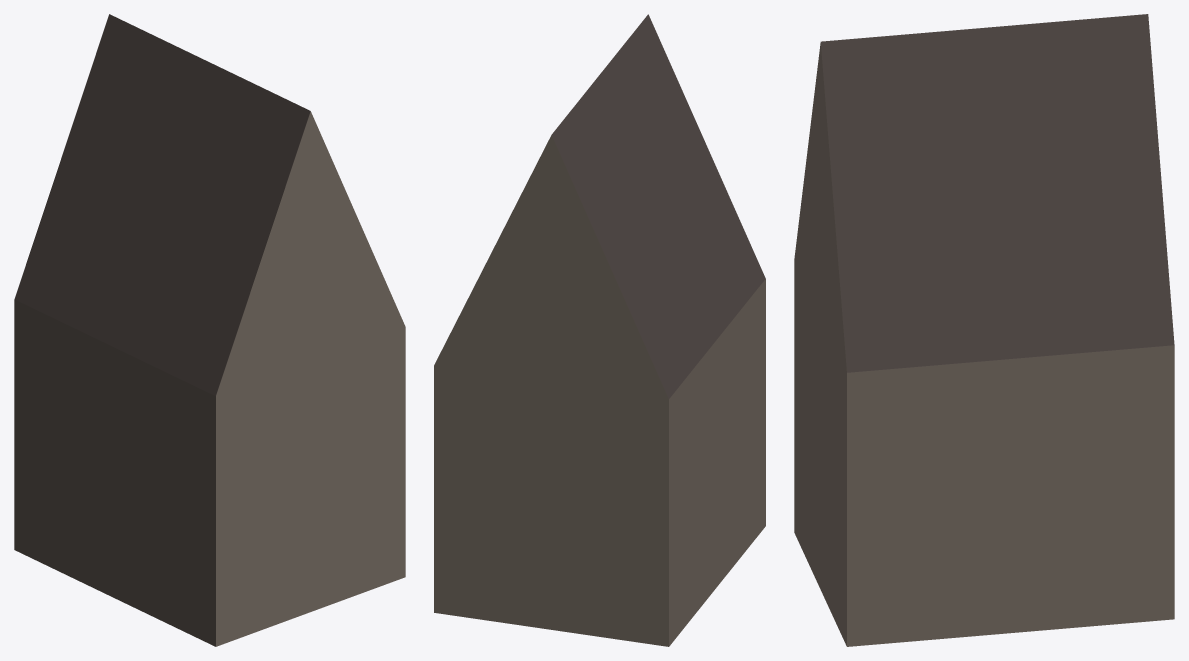
3 views of the same model, side by side, from view 1: azimuth 30°, elevation 25°; view 2: azimuth 150°, elevation 25°; view 3: azimuth 270°, elevation 25° (orthographic). The views are drawn at different scales.
Parts seen in each view (by area): view 1: HP-w428186467; view 2: HP-w428186467; view 3: HP-w428186467.
Part boxes in pixels (x1,y1,x2,y2): HP-w428186467: [14, 14, 405, 646]; HP-w428186467: [434, 14, 765, 646]; HP-w428186467: [794, 14, 1174, 646].
Size of the model in its own units: 3.33 by 6 by 3.77.
